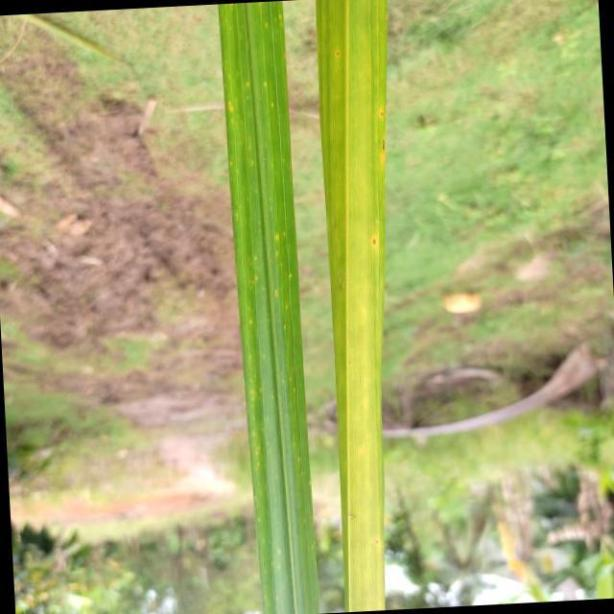nitrogen: (220, 0, 320, 614), (318, 0, 389, 614)
